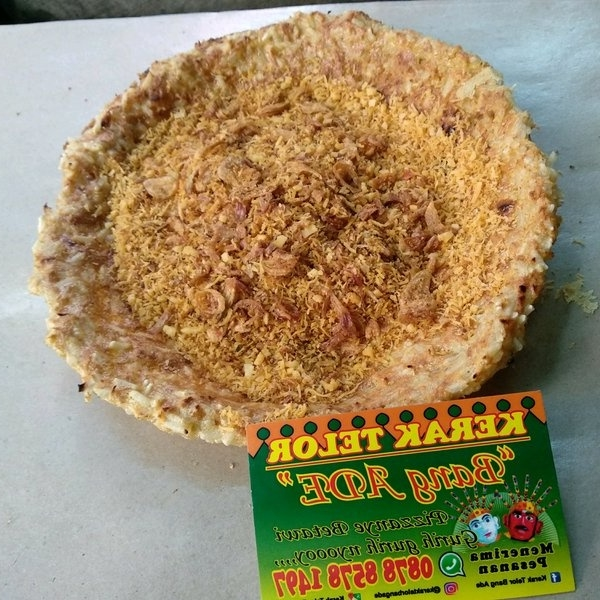kerak_telor: (32, 12, 561, 392)
